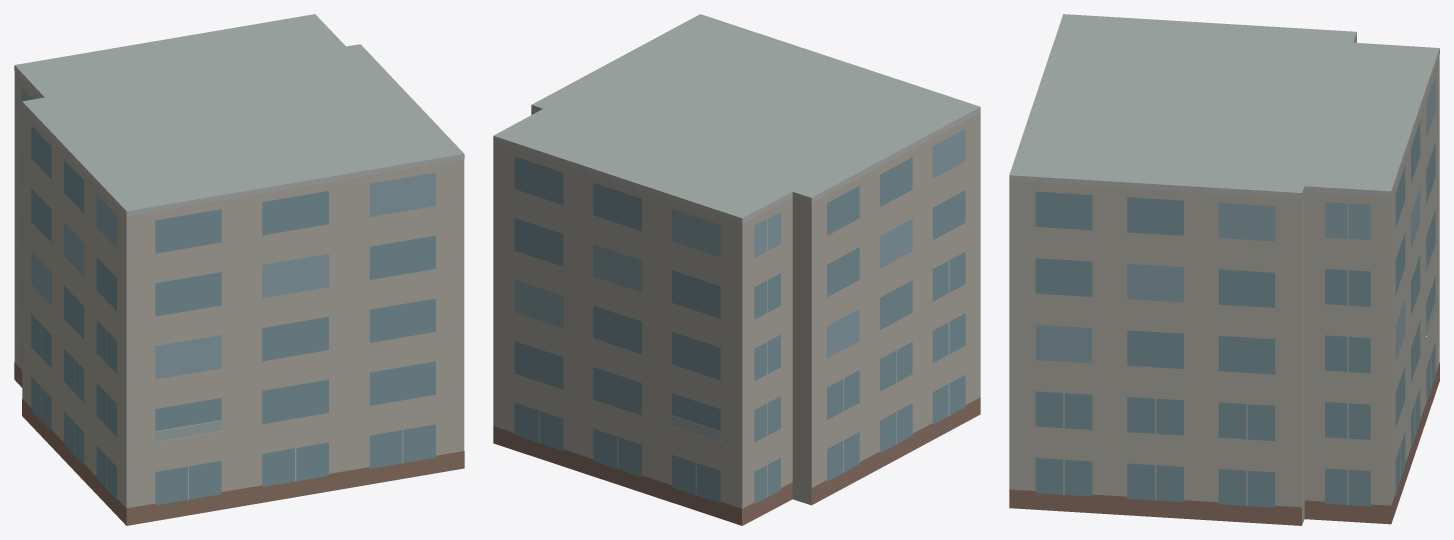
Rendered from survey-upis-32556407.glb.
3 views of the same model, side by side, from view 1: azimuth 30°, elevation 25°; view 2: azimuth 150°, elevation 25°; view 3: azimuth 270°, elevation 25° (orthographic). The views are drawn at different scales.
Parts seen in each view (by area): view 1: survey-upis-32556407.tmp; view 2: survey-upis-32556407.tmp; view 3: survey-upis-32556407.tmp.
Part boxes in pixels (x1=…): survey-upis-32556407.tmp: x1=14, y1=14, x2=464, y2=525; survey-upis-32556407.tmp: x1=493, y1=14, x2=980, y2=525; survey-upis-32556407.tmp: x1=1009, y1=14, x2=1439, y2=525.
Bounding box in the file's own units: 16.05 × 13.9 × 16.31.
